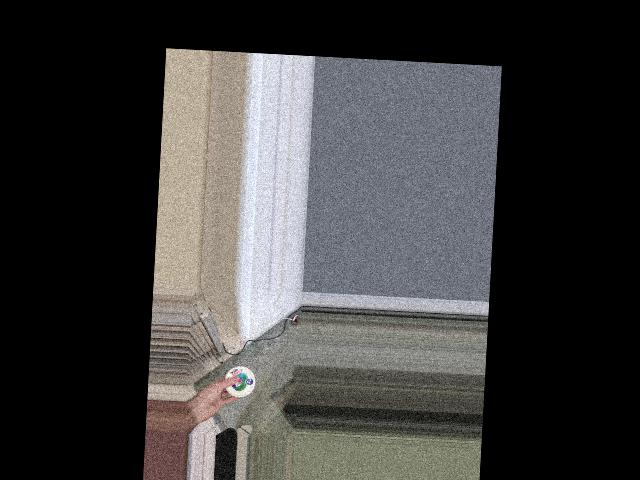cotage: (223, 366, 254, 397)
